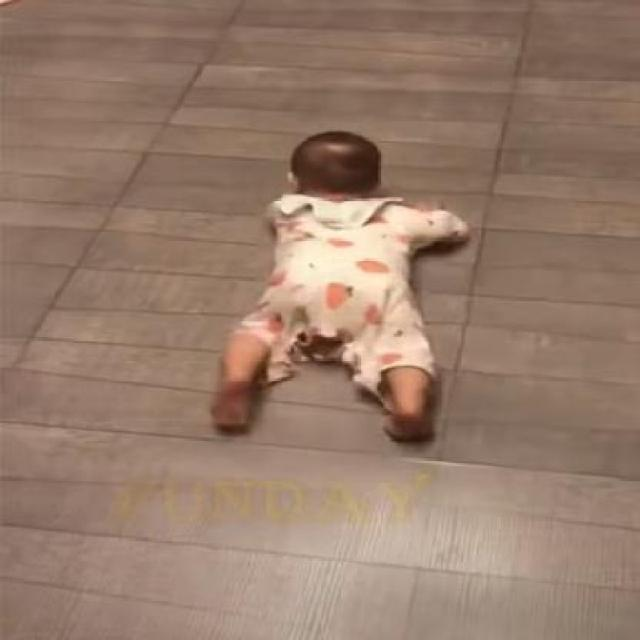baby: (206, 128, 472, 444)
